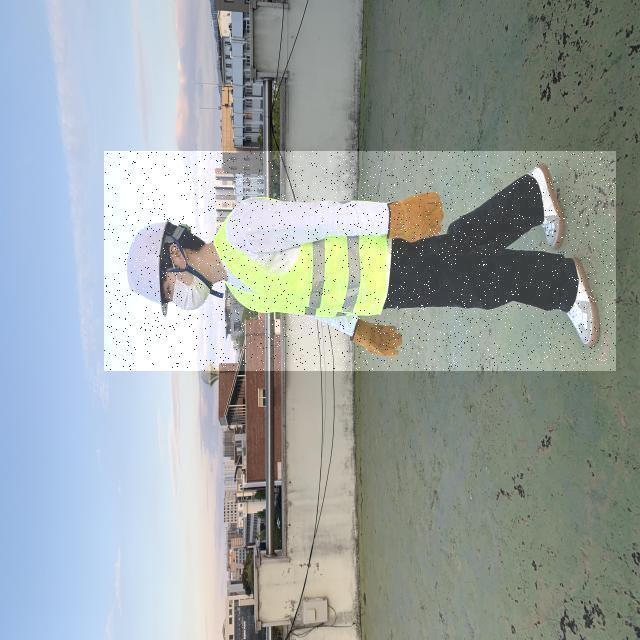Gloves: (382, 184, 452, 255), (343, 309, 412, 366)
Helmet: (122, 213, 176, 324)
Person: (99, 139, 621, 386)
Safety Boot: (548, 255, 609, 359), (522, 151, 573, 255)
Safety Vest: (215, 197, 397, 320)
